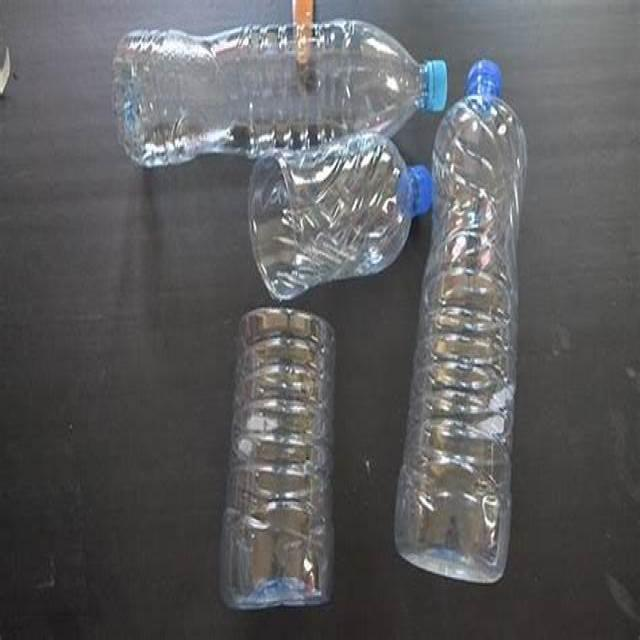plastic bottle: (392, 92, 528, 586), (115, 18, 428, 169), (218, 307, 336, 609), (246, 135, 416, 303)
plastic bottle cap: (411, 163, 433, 216), (467, 60, 502, 93), (428, 60, 448, 112)
